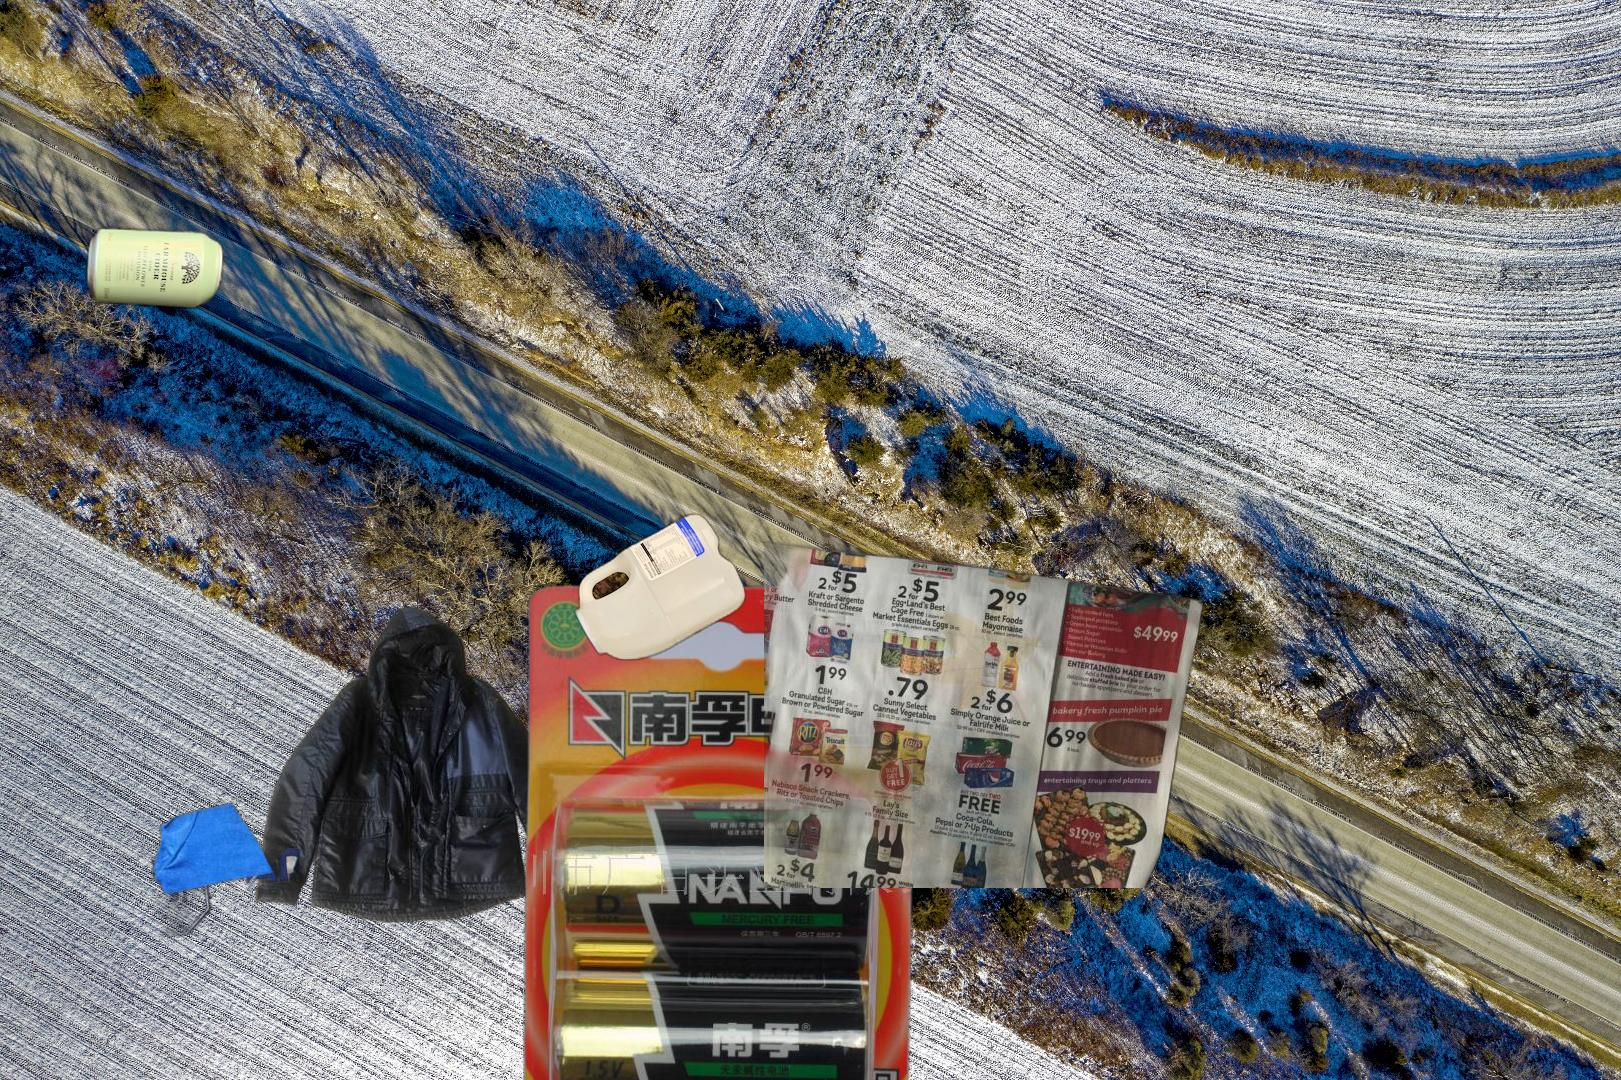battery: (519, 581, 921, 1080)
clothes: (253, 601, 597, 927)
metal-cans: (82, 222, 228, 315)
paper: (764, 538, 1209, 888)
plastic-bottles: (568, 507, 750, 667)
trashbox-cardboard: (140, 800, 444, 965)
